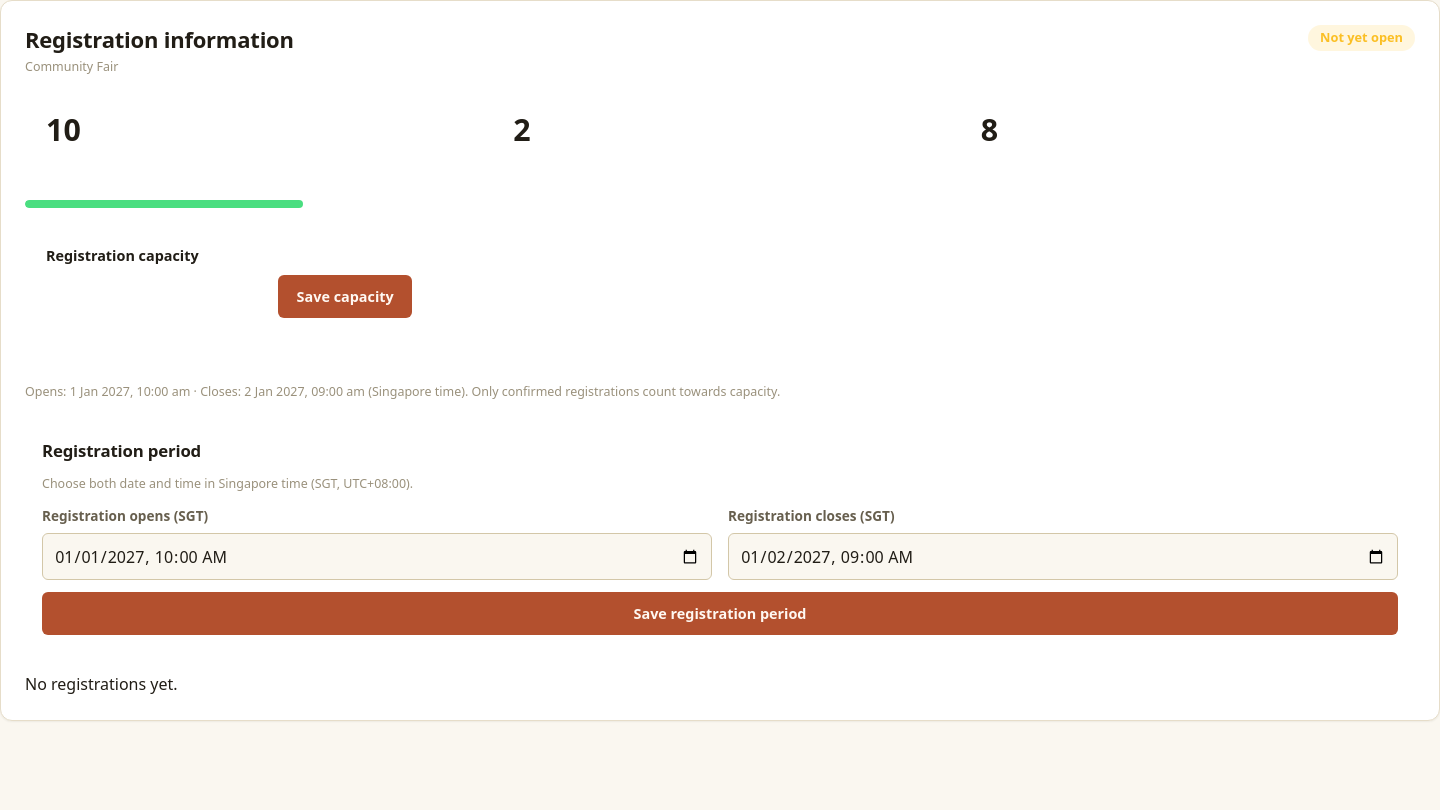
EO12 organiser registration period › EO12 AC15 (failure): keeps the saved period visible when the API rejects the update
The image size is (1440, 810).
Step 1. Replace the text in the field labelled "Registration closes (SGT)" with "2027-01-02T09:30" → (1063, 556), box [728,533,1398,580]
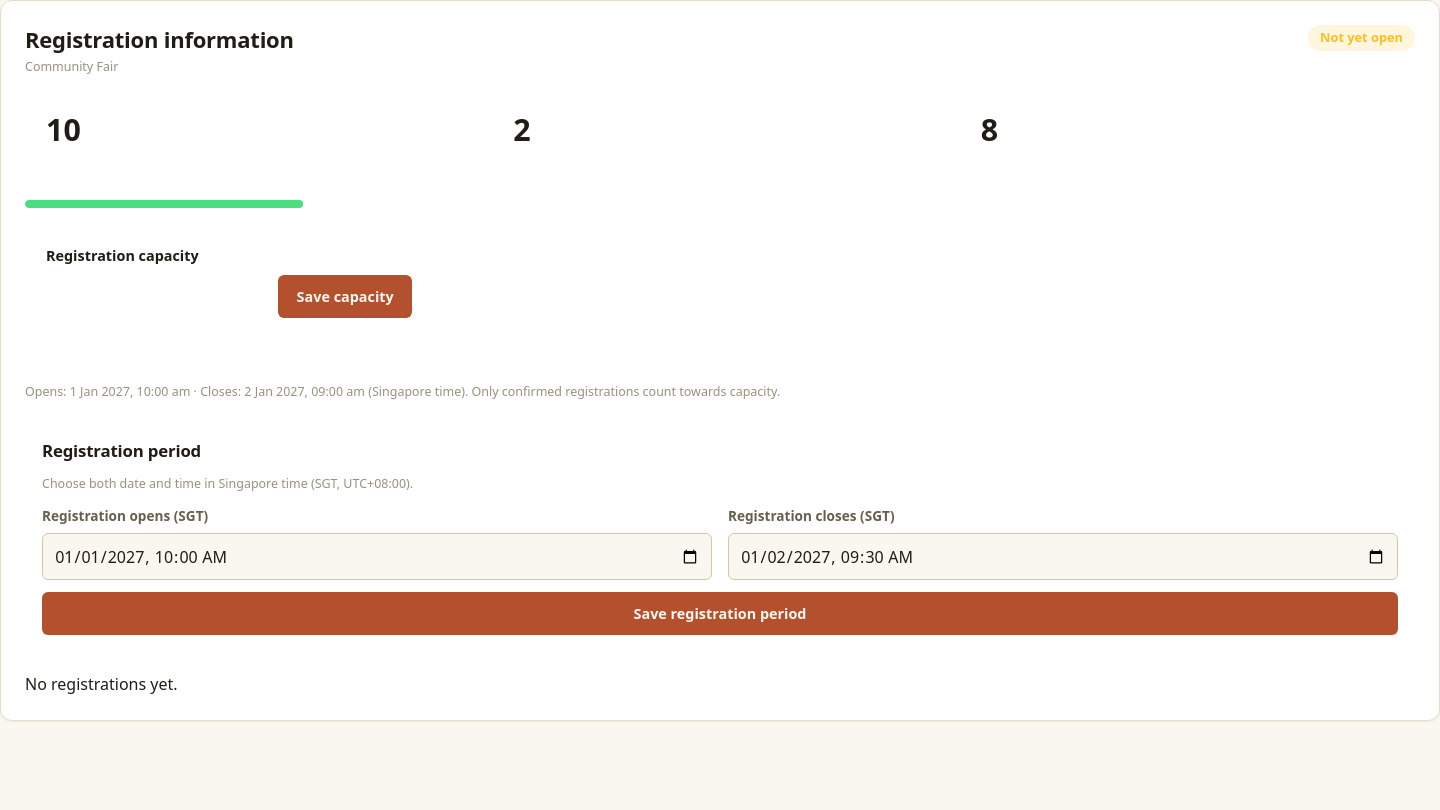
Step 2. Click the button "Save registration period" → (720, 614), box [42,592,1398,635]
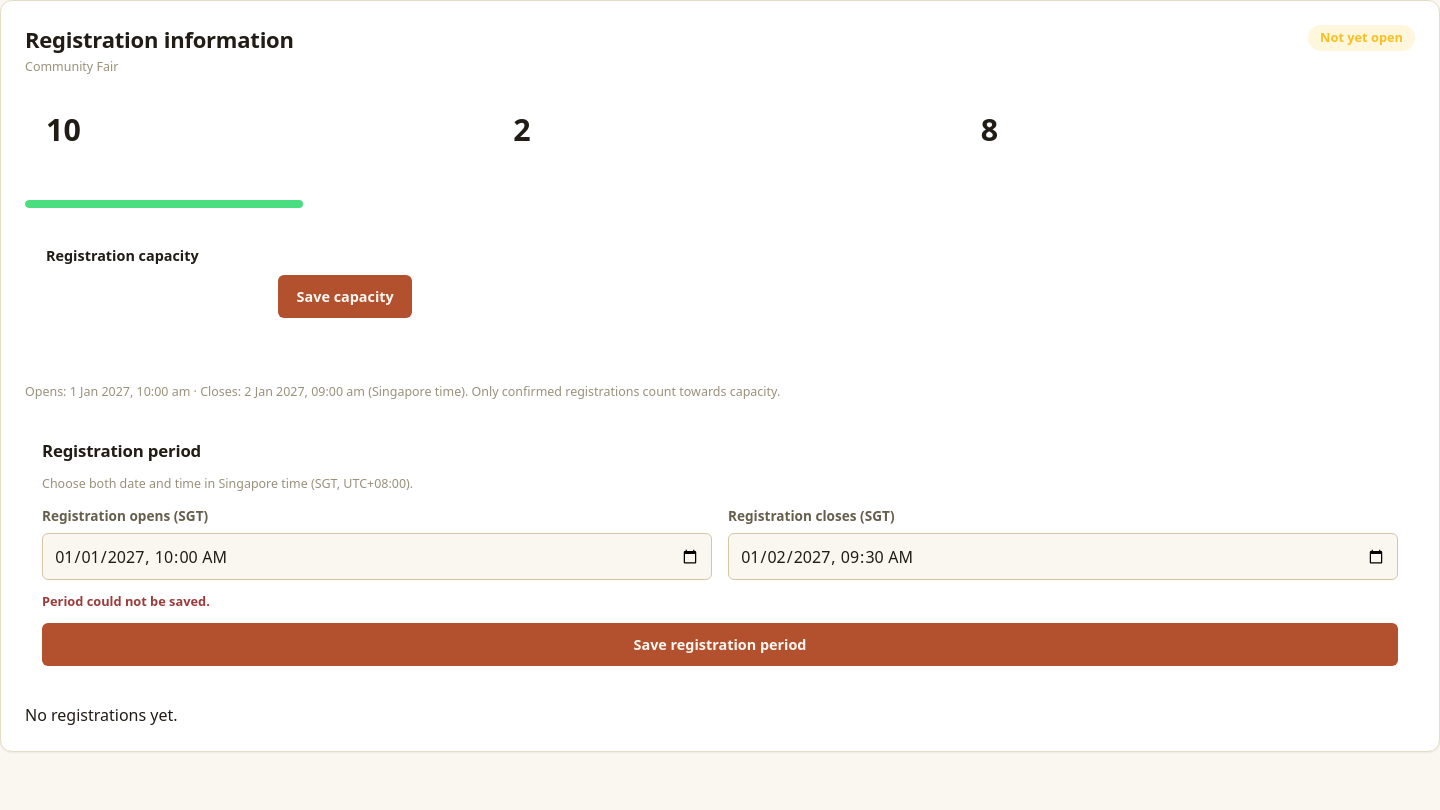
Check: the text "Closes:" shows "2 Jan 2027, 09:00 am", box [244,382,365,400]
Check: the message reads "Period could not be saved.", box [42,592,210,610]
